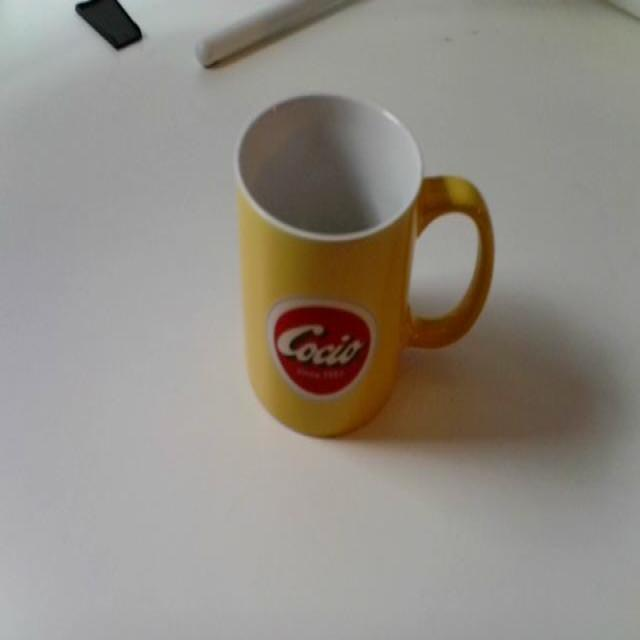cup: (222, 78, 498, 460)
